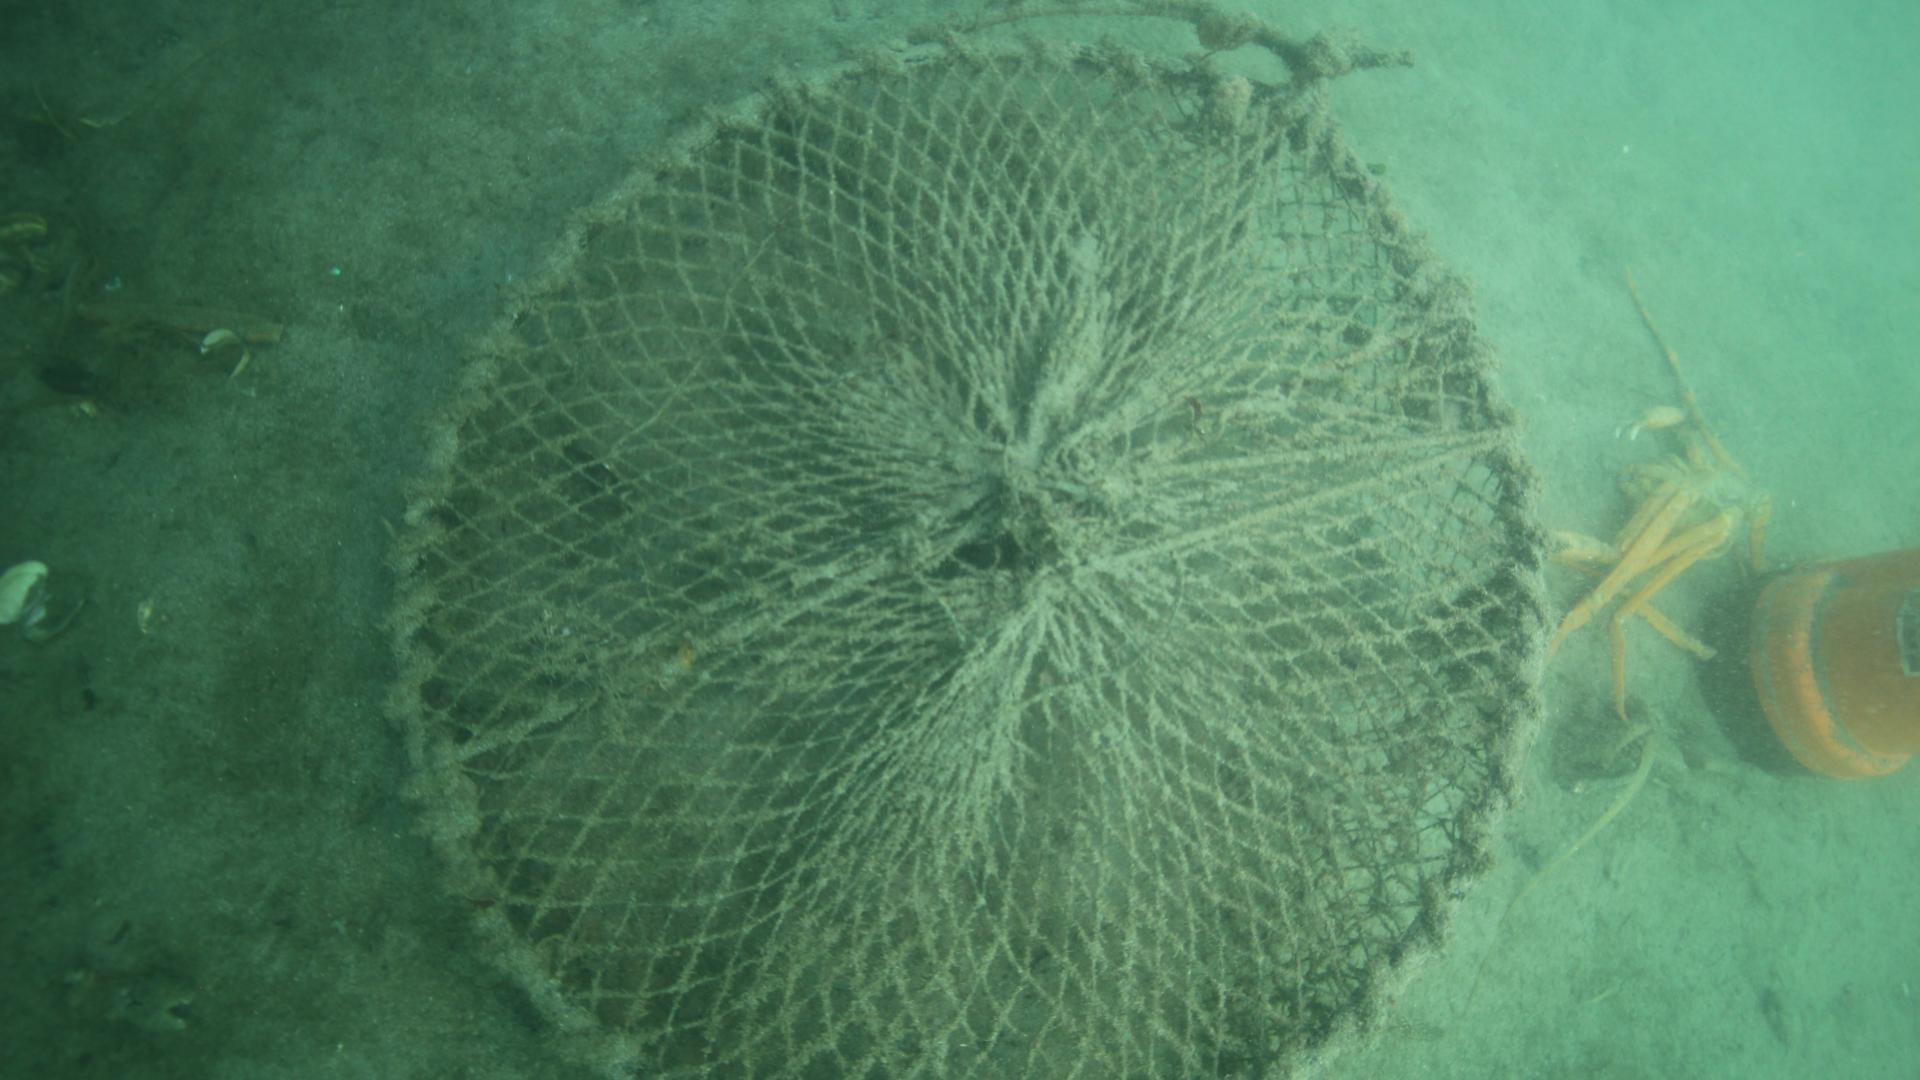circular fish trap: (390, 37, 1548, 1080)
